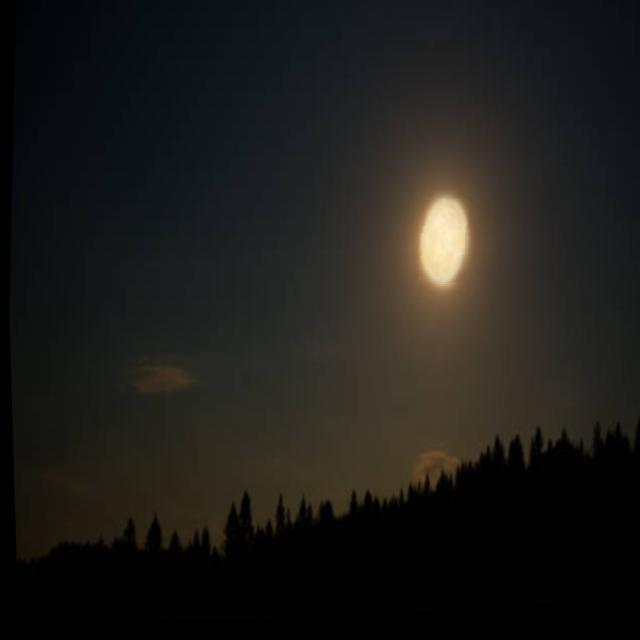moon: (416, 202, 470, 292)
